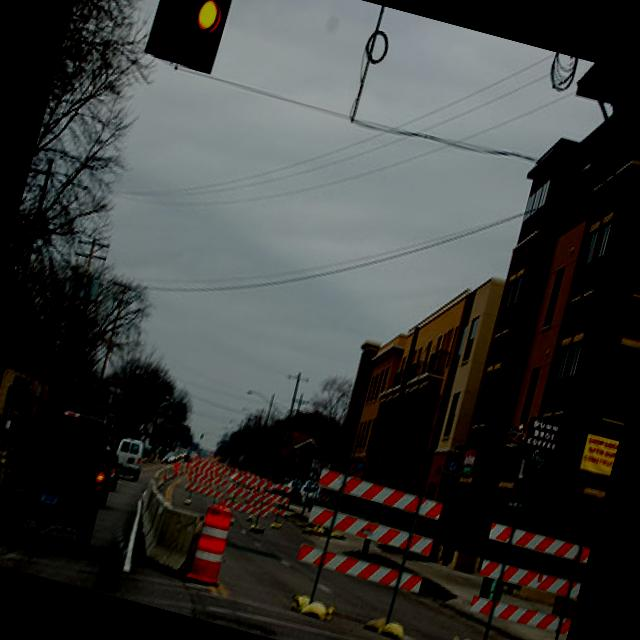Vehicle: (0, 396, 122, 563), (108, 434, 146, 482), (94, 450, 124, 491)
